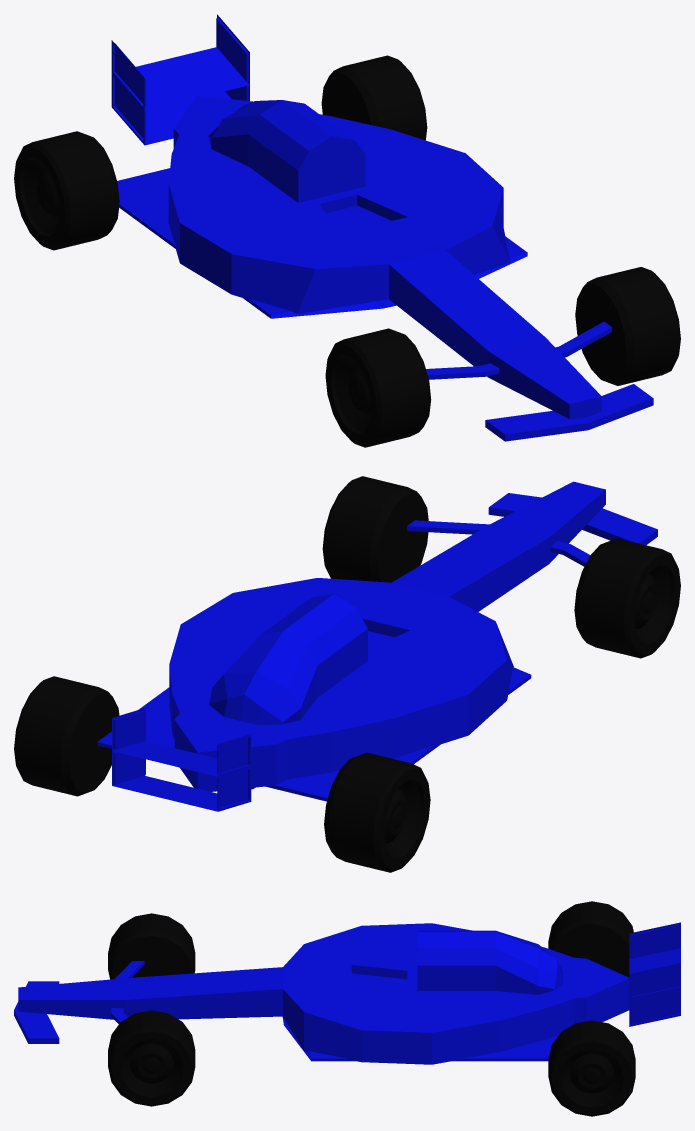
The picture shows the model from 3 angles, top to bottom: view 1: azimuth 30°, elevation 25°; view 2: azimuth 150°, elevation 25°; view 3: azimuth 270°, elevation 25°; orthographic projection. The views are drawn at different scales.
Visible parts, largest first — view 1: F1, Right_front_wheel, Right_back_wheel, Left_front_wheel, Left_back_wheel; view 2: F1, Right_front_wheel, Right_back_wheel, Left_back_wheel, Left_front_wheel; view 3: F1, Left_front_wheel, Left_back_wheel, Right_front_wheel, Right_back_wheel.
Boxes of the visible parts, x1=… form: F1: x1=111, y1=14, x2=653, y2=441; Right_front_wheel: x1=325, y1=328, x2=431, y2=447; Right_back_wheel: x1=14, y1=131, x2=119, y2=250; Left_front_wheel: x1=575, y1=267, x2=680, y2=385; Left_back_wheel: x1=321, y1=55, x2=427, y2=140; F1: x1=97, y1=481, x2=657, y2=811; Right_front_wheel: x1=574, y1=538, x2=680, y2=658; Right_back_wheel: x1=324, y1=752, x2=430, y2=872; Left_back_wheel: x1=14, y1=676, x2=119, y2=796; Left_front_wheel: x1=322, y1=476, x2=428, y2=582; F1: x1=14, y1=922, x2=680, y2=1064; Left_front_wheel: x1=108, y1=1010, x2=195, y2=1106; Left_back_wheel: x1=548, y1=1020, x2=635, y2=1116; Right_front_wheel: x1=108, y1=913, x2=195, y2=979; Right_back_wheel: x1=548, y1=901, x2=633, y2=977.
Size of the model in its own units: 2.87 by 1.12 by 5.82.
